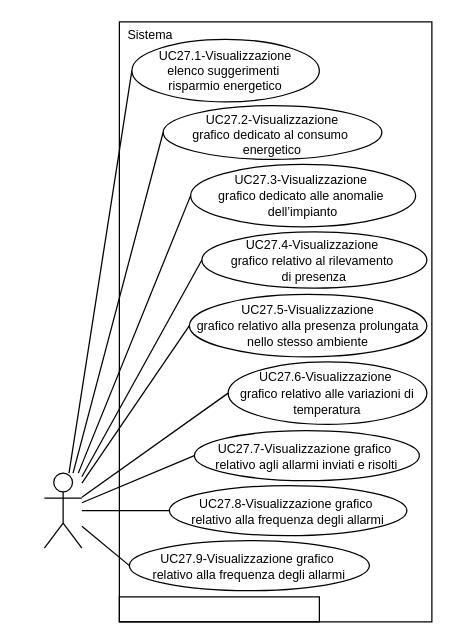
Some shapes in this 454 by 644 pixel diagram are drawn without their labels. Each missing label, with the box of its shape:
Amministratore: (43, 472, 82, 548)
UC27-Visualizzazione analytics: (118, 596, 319, 622)
